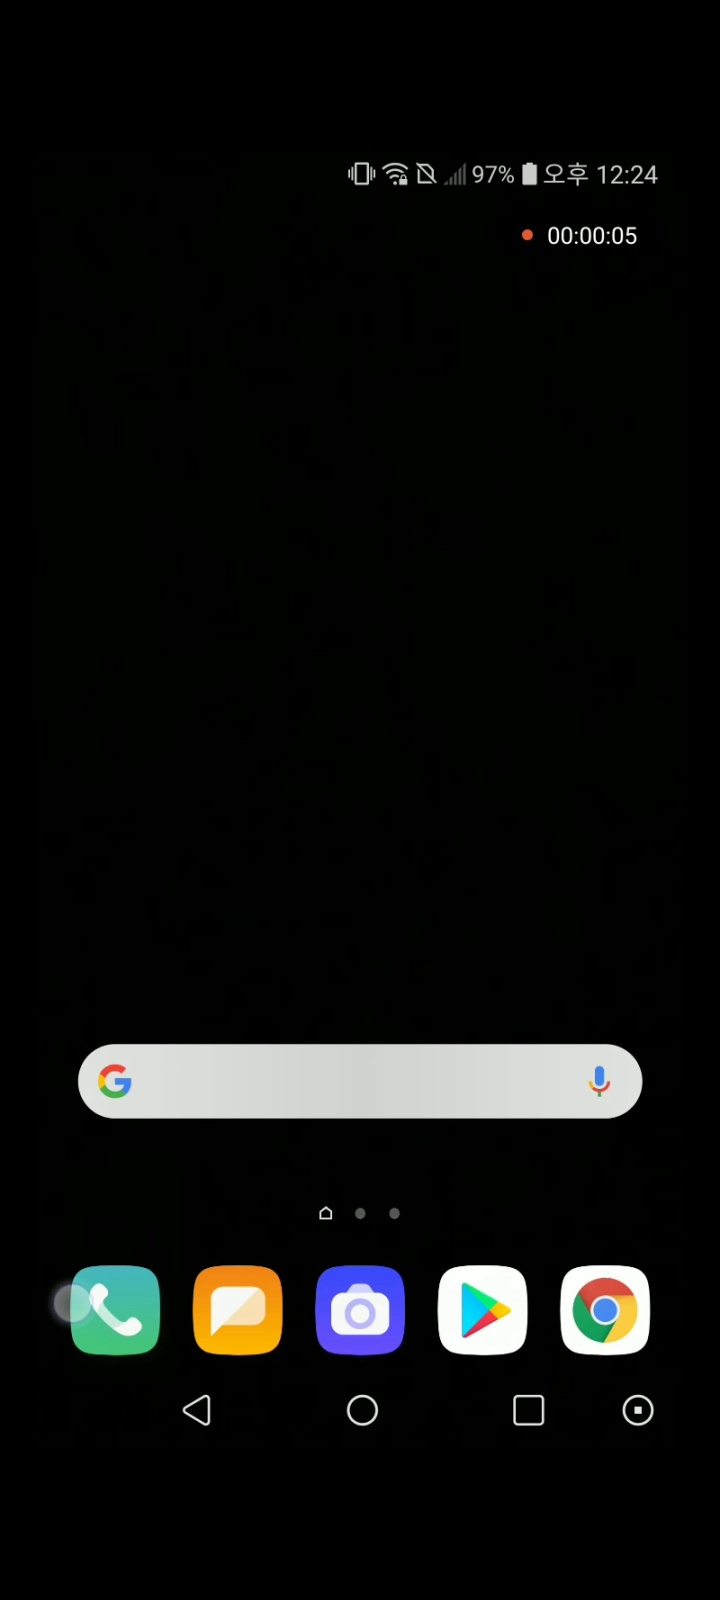Cursor: (52, 1281, 97, 1326)
